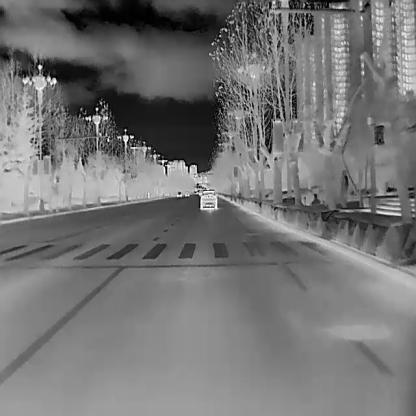car: (199, 189, 217, 210), (176, 190, 181, 197), (185, 191, 189, 197)
